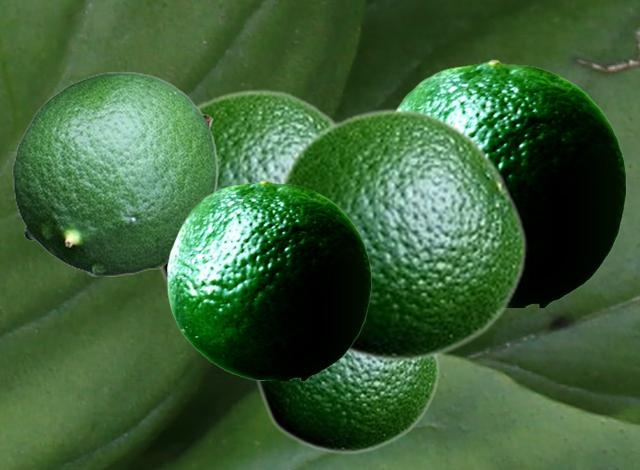calamansi: (276, 107, 527, 363), (396, 59, 625, 306), (12, 71, 217, 275), (167, 179, 370, 379), (158, 88, 336, 287), (252, 353, 439, 454)
